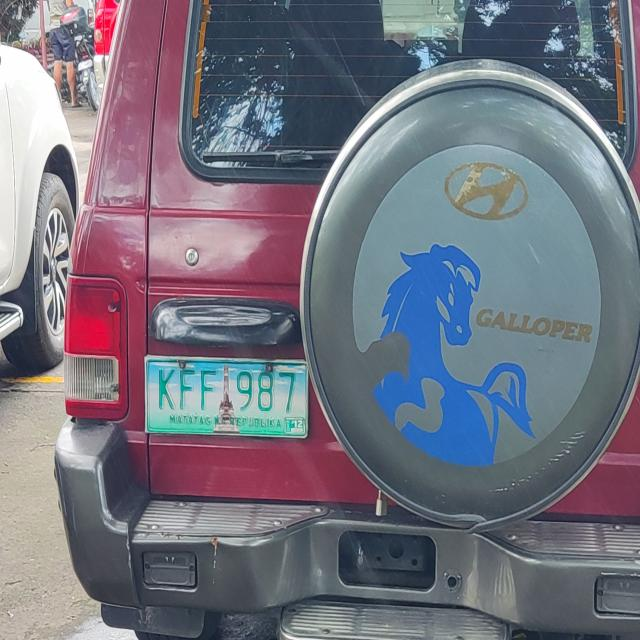plate: (142, 351, 311, 442)
